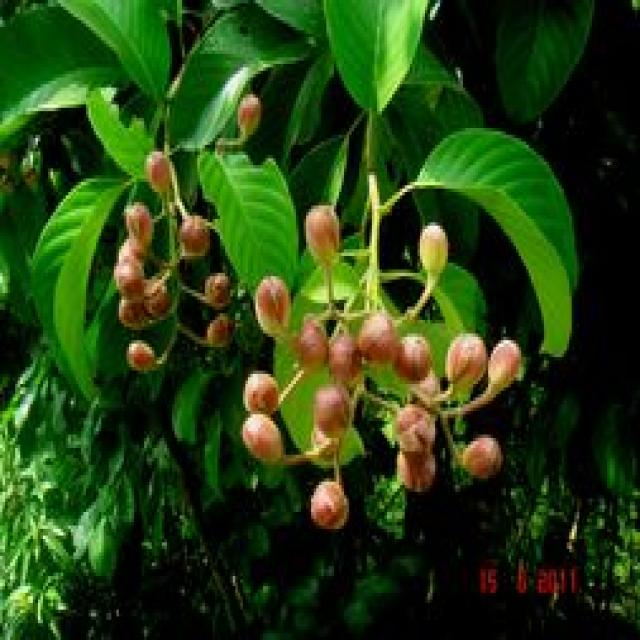Simpoh-Lak: (227, 158, 518, 519), (78, 61, 250, 374)
